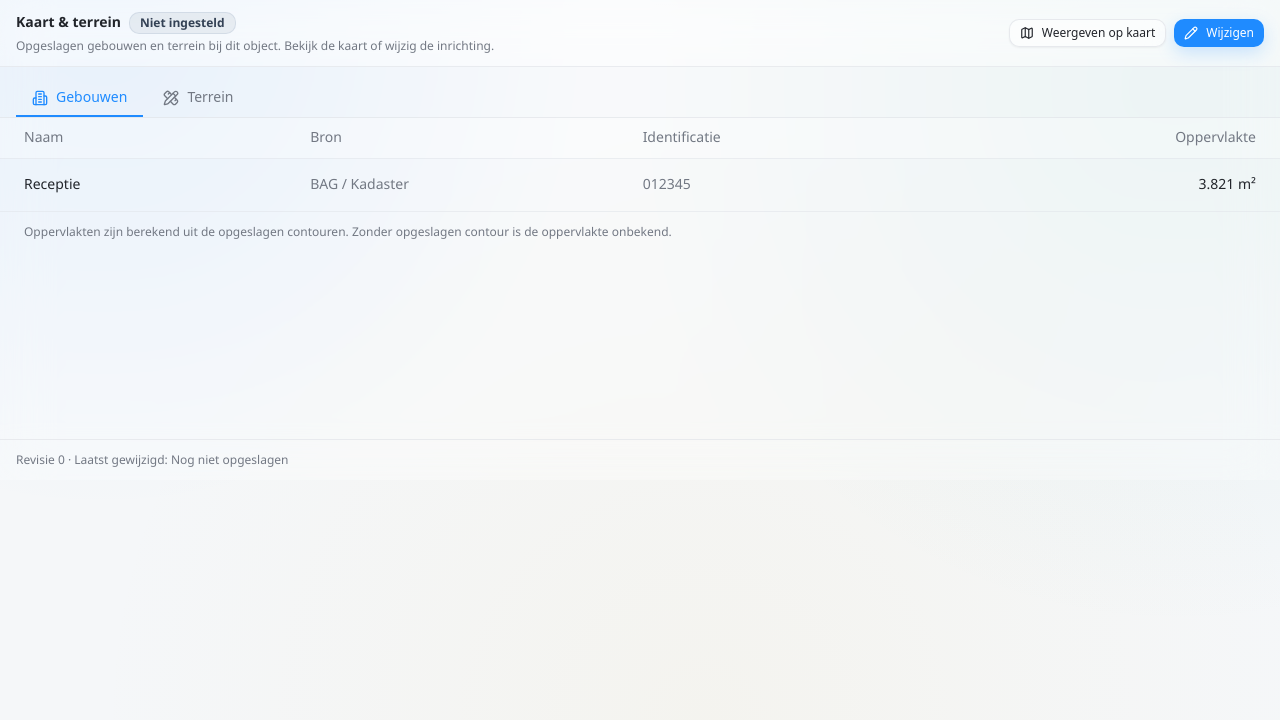
Test: ObjectMapTab › opent met opgeslagen tabellen zonder kaart, kandidaten, percelen of mutaties te laden
Expected: the table named "Opgeslagen gebouwen" is shown, left=0, top=118, right=1279, bottom=210
Expected: the text "Receptie" is shown, left=24, top=174, right=80, bottom=194
Click the tab "Terrein".
click(198, 98)  # box left=147, top=79, right=250, bottom=117
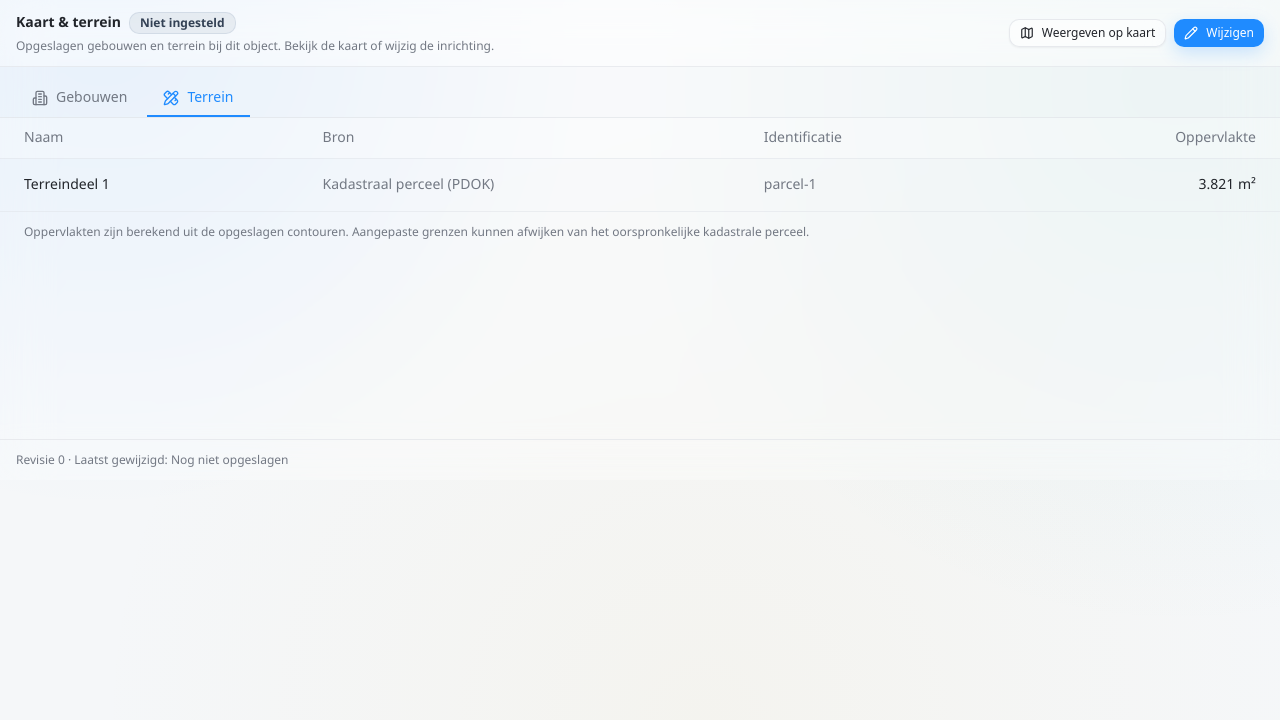
Expected: the table named "Opgeslagen terreinen" is shown, left=0, top=118, right=1279, bottom=210
Expected: the text "Terreindeel 1" is shown, left=24, top=174, right=110, bottom=194
Click the tab "Gebouwen".
click(80, 98)  # box left=16, top=79, right=143, bottom=117
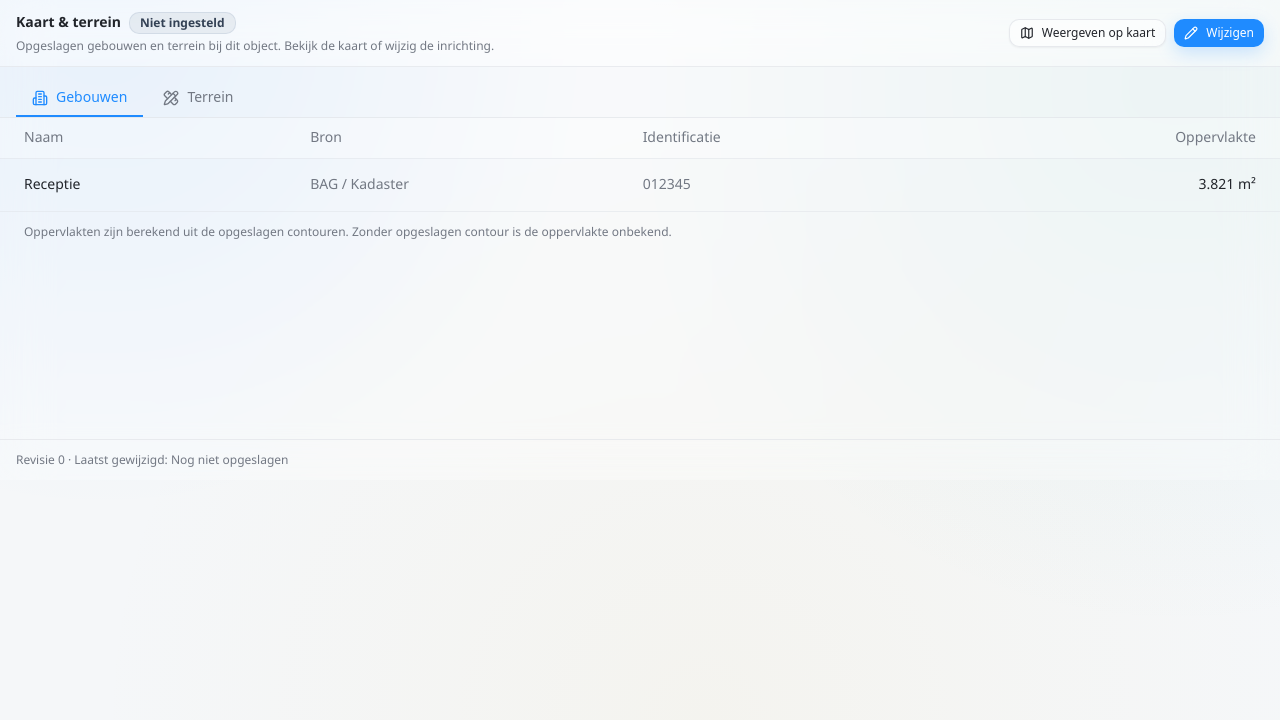
Expected: the text "Receptie" is shown, left=24, top=174, right=80, bottom=194
